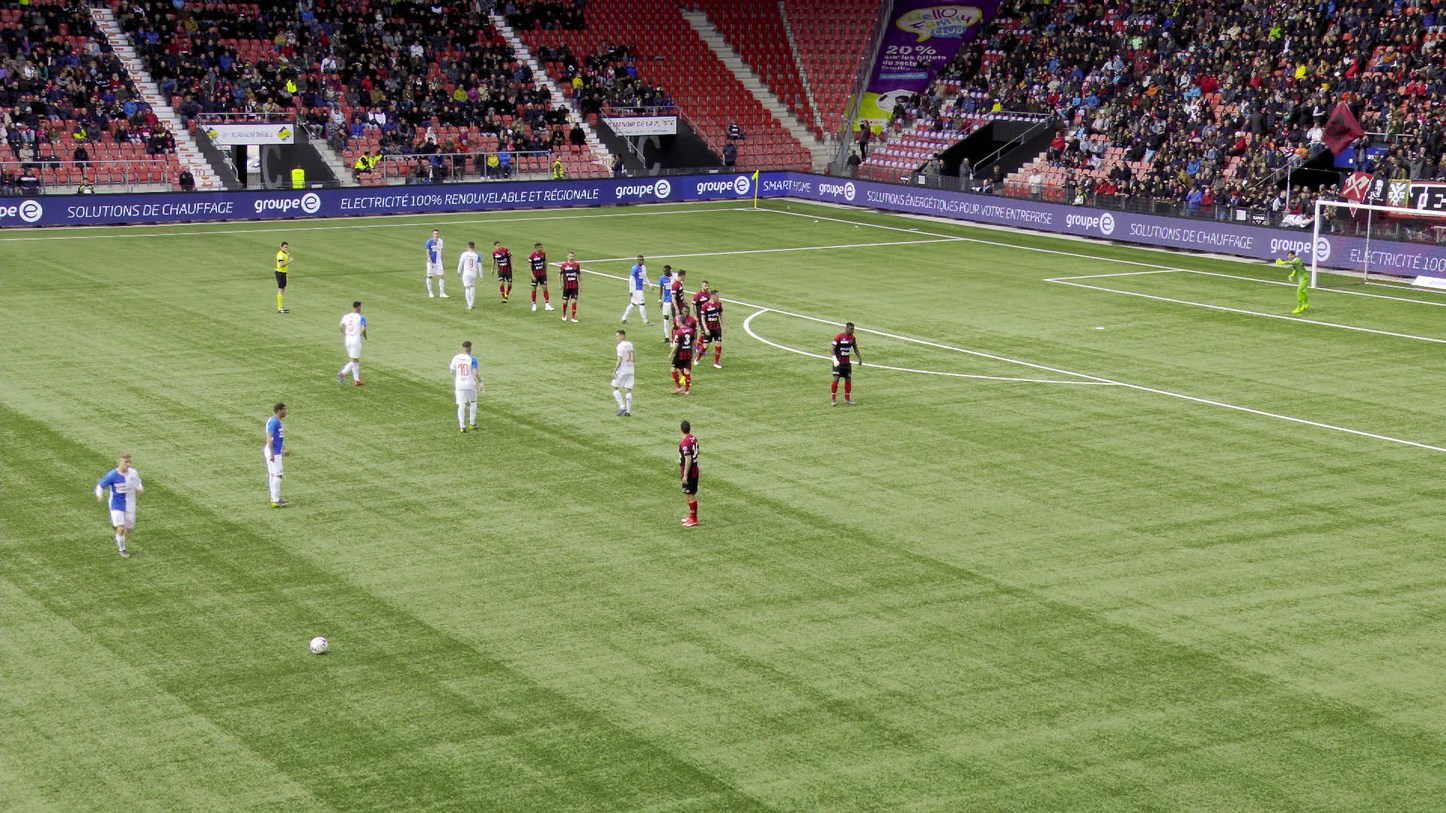ball: (310, 637, 327, 653)
player: (93, 448, 142, 556), (447, 342, 483, 434), (263, 401, 293, 507), (334, 300, 367, 388), (829, 321, 862, 406), (665, 316, 698, 395), (610, 330, 639, 416), (1271, 251, 1310, 313), (694, 289, 724, 369), (620, 254, 652, 324), (671, 305, 698, 386), (658, 263, 684, 342), (456, 239, 484, 309), (679, 419, 697, 527), (527, 242, 555, 311), (425, 228, 450, 298), (559, 251, 582, 321), (691, 280, 712, 356), (670, 269, 688, 347), (492, 240, 514, 303)
referee: (273, 242, 292, 314)
